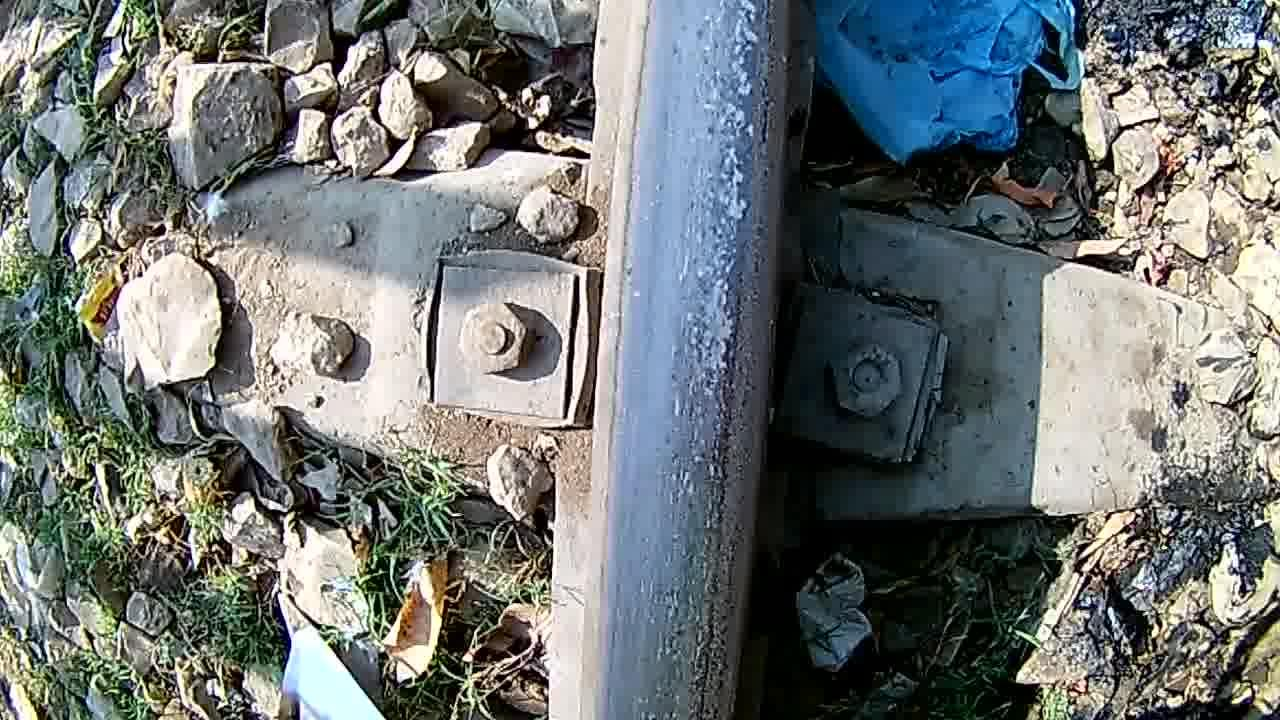clip_missing: (611, 0, 790, 720)
